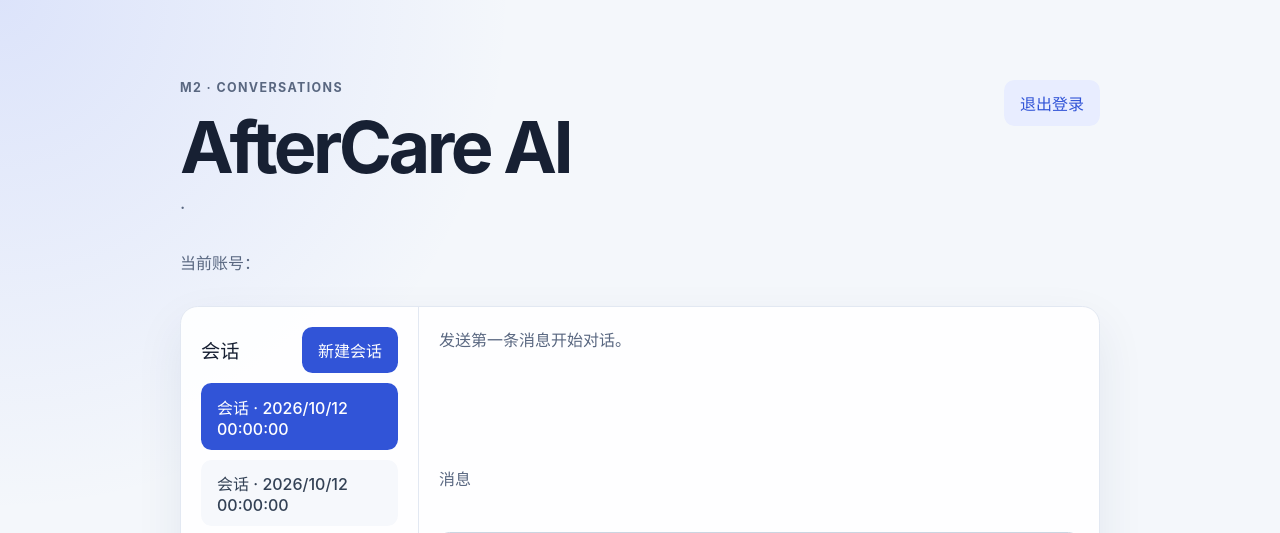
reply lifecycle › shows the budget and source-backed facts used by a completed reply
What coordinates should you click on to do the following:
click the 1st button with class "conversation-button"
I would click on:
 (300, 416)
Its box is 201,383 -> 398,450.
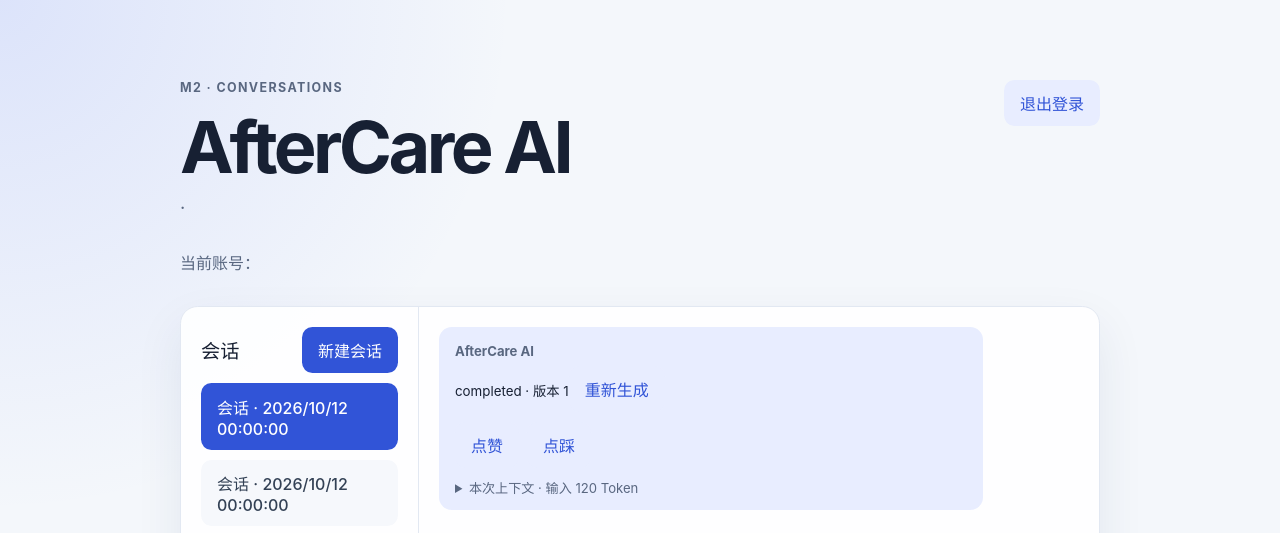
Check: the element with class "context-details" shows "输入 120 Token", box 469,480 -> 638,496
